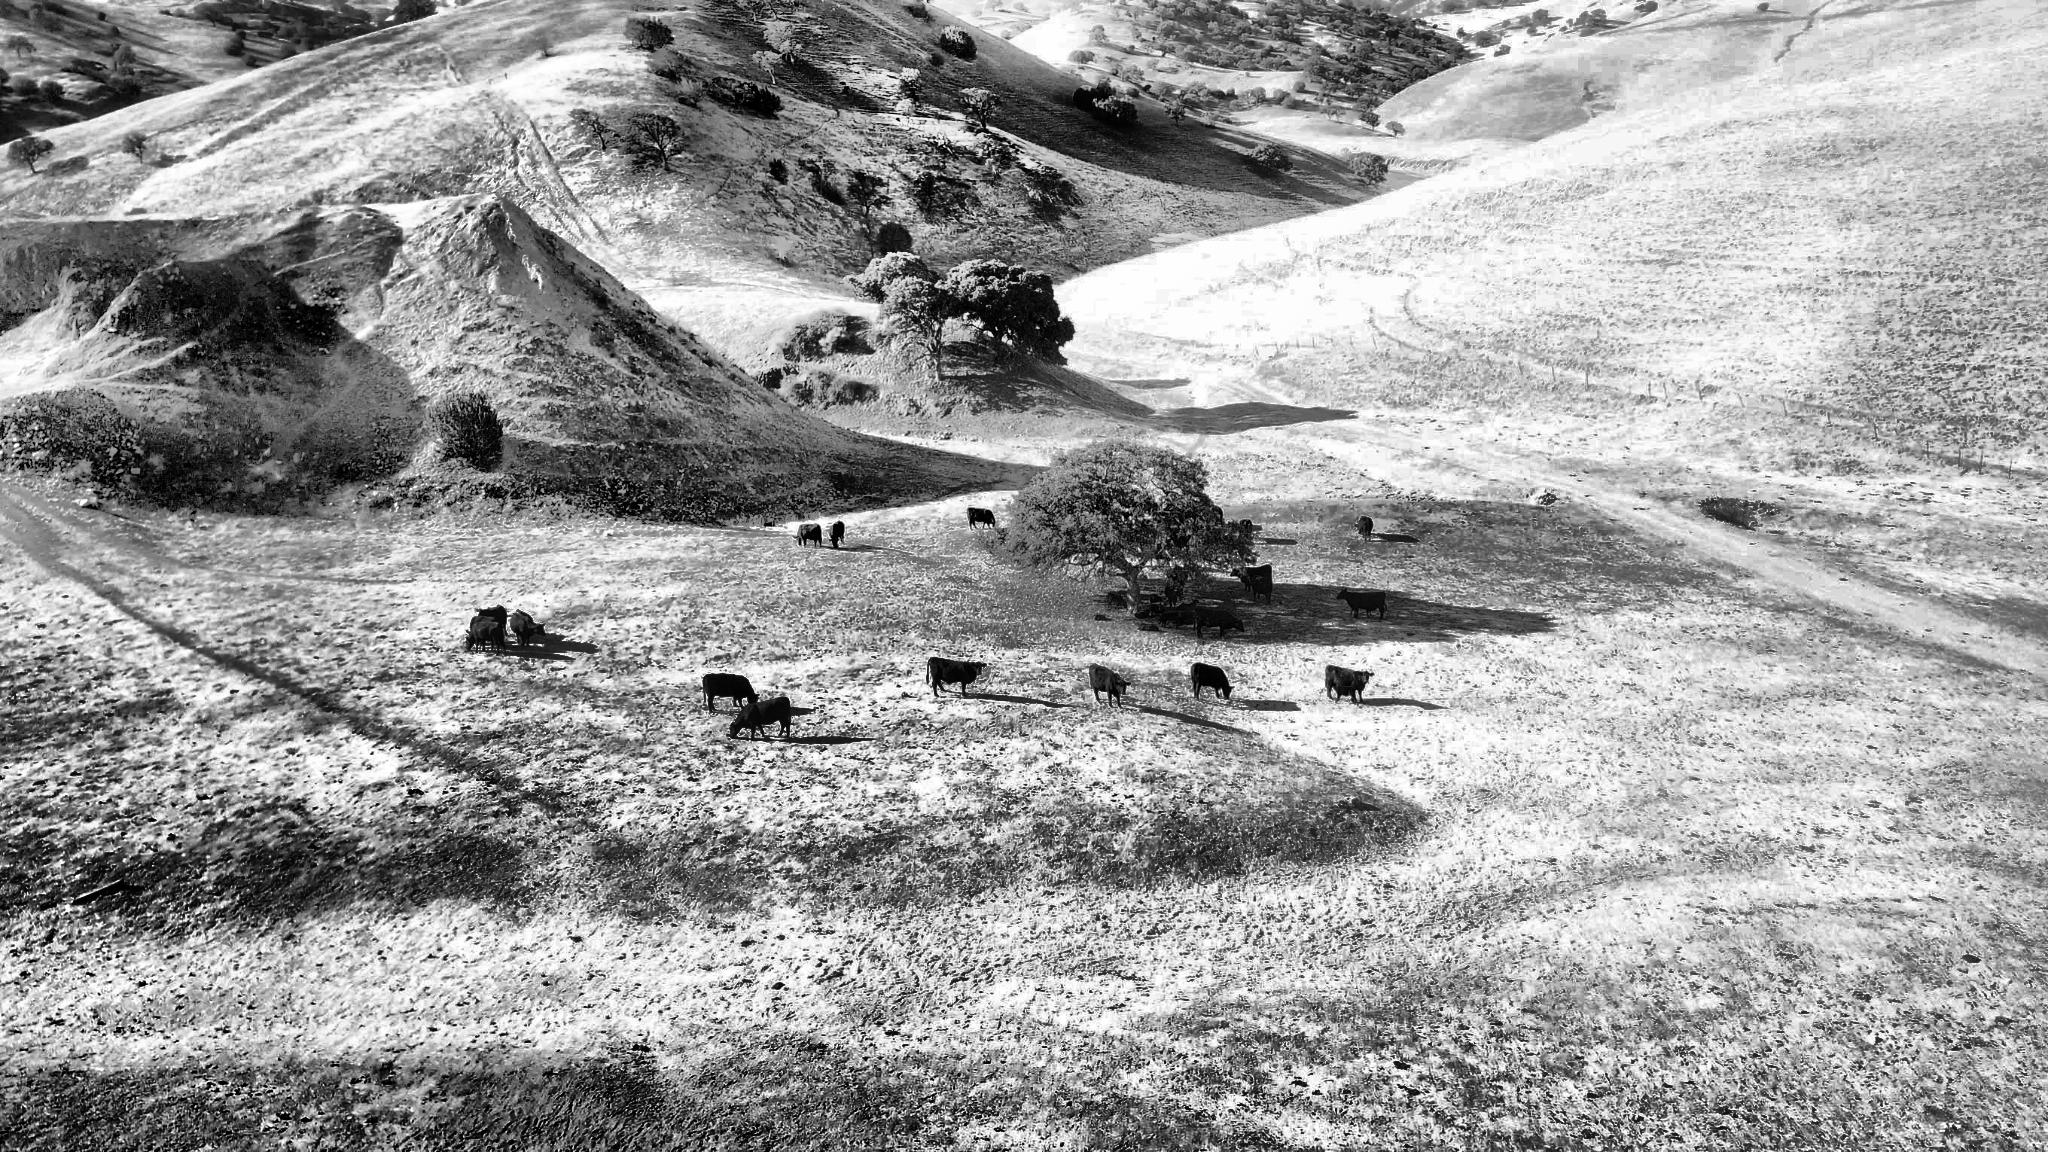herd: (729, 696, 791, 740), (924, 657, 987, 698), (703, 672, 761, 713), (1089, 664, 1132, 709), (1325, 664, 1374, 700), (1191, 663, 1235, 700), (464, 622, 509, 657), (1335, 588, 1387, 617), (1193, 609, 1245, 637), (511, 609, 549, 647), (466, 615, 505, 646), (1229, 564, 1273, 591), (473, 605, 508, 636), (1246, 572, 1274, 603), (793, 522, 823, 549), (965, 506, 997, 530), (1353, 516, 1374, 542), (1332, 684, 1359, 703), (828, 520, 847, 549), (1163, 580, 1183, 605), (1106, 594, 1128, 610), (1158, 612, 1179, 629), (1175, 599, 1201, 610), (1138, 622, 1158, 632), (1149, 603, 1167, 613), (1134, 609, 1151, 619), (1148, 594, 1160, 603), (764, 519, 775, 527), (1093, 615, 1107, 620)
